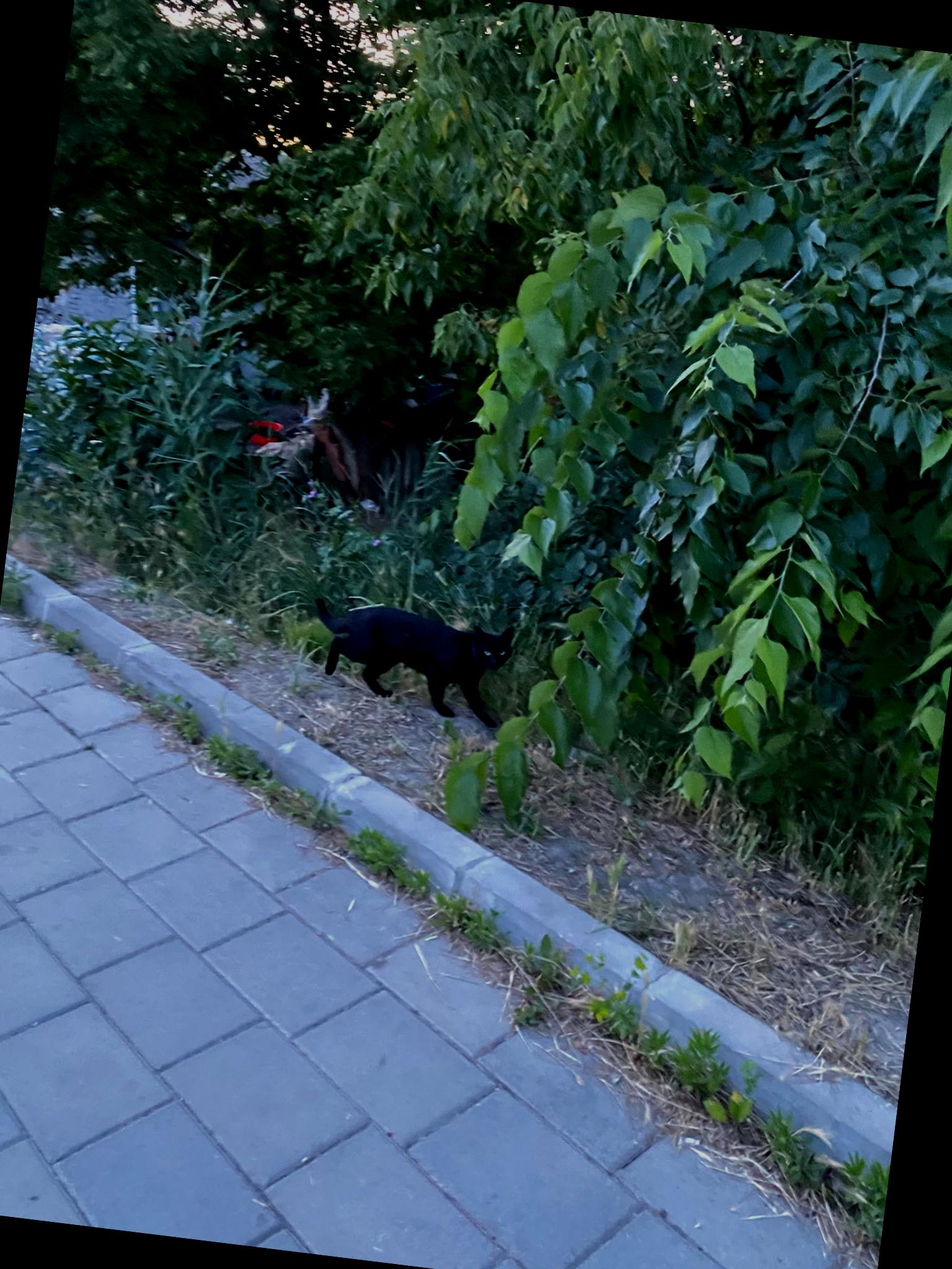macka: (302, 597, 515, 729)
